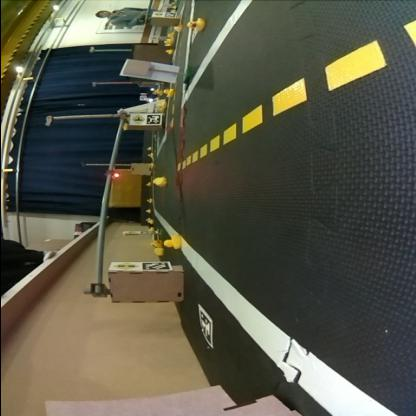Duckie: (164, 238, 180, 249), (188, 20, 201, 30), (152, 178, 164, 186), (162, 90, 169, 98), (152, 249, 160, 255), (164, 50, 172, 55), (158, 103, 166, 108), (144, 209, 150, 213), (152, 242, 156, 247), (146, 200, 150, 204)
Intersection sign: (130, 116, 144, 124)
QR code: (196, 305, 210, 346), (143, 262, 170, 270), (146, 114, 160, 126)
Signal sign: (107, 263, 137, 271)
Traffic light: (111, 173, 119, 179)
